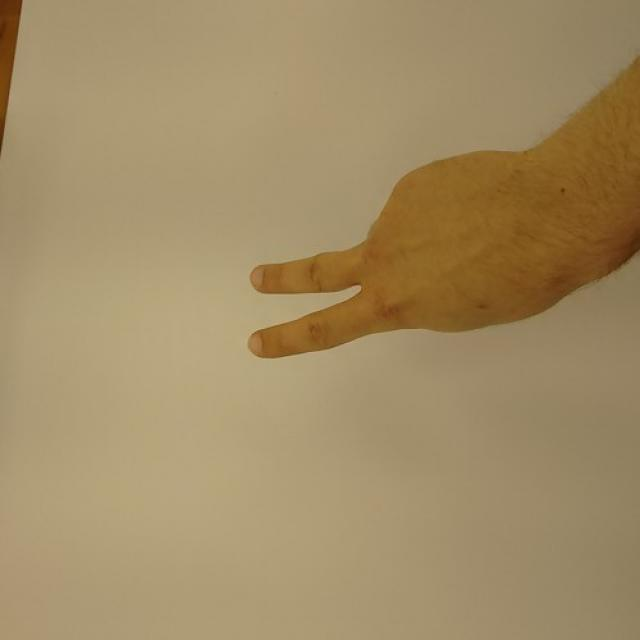scissors: (244, 148, 516, 361)
